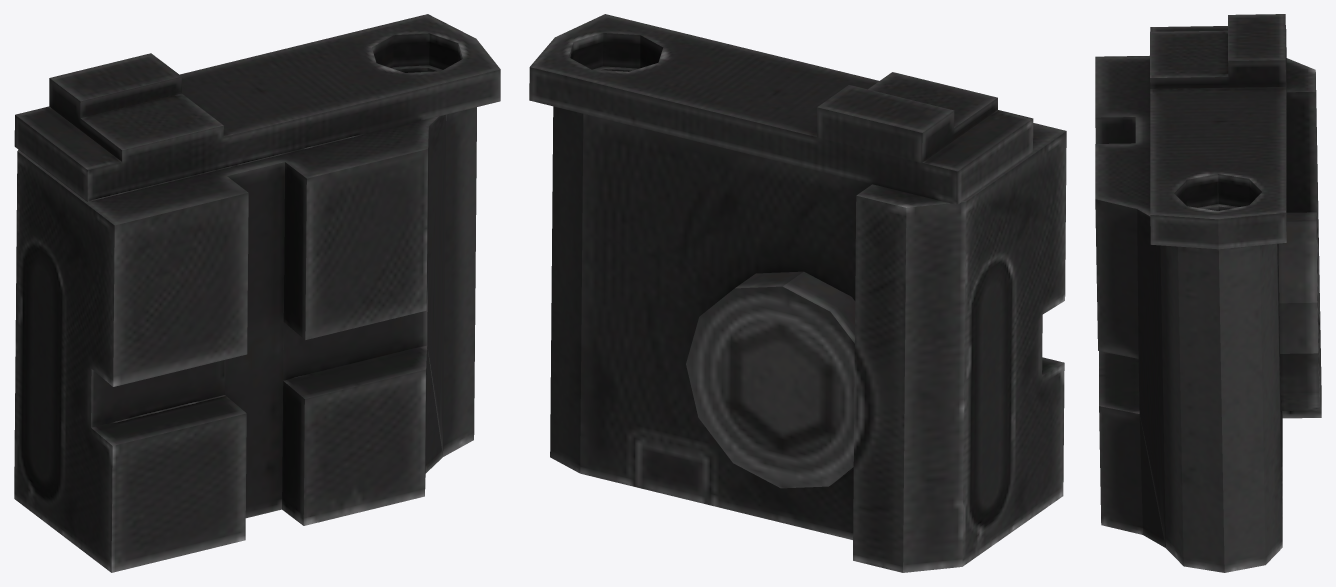
3 renders of one model, left to right at view 1: azimuth 30°, elevation 25°; view 2: azimuth 150°, elevation 25°; view 3: azimuth 270°, elevation 25°, orthographic. The views are drawn at different scales.
Visible parts, largest first — view 1: TW_59ecc28286f7746d7a68aa8c_PZ_Import; view 2: TW_59ecc28286f7746d7a68aa8c_PZ_Import; view 3: TW_59ecc28286f7746d7a68aa8c_PZ_Import.
Boxes of the visible parts, x1=… form: TW_59ecc28286f7746d7a68aa8c_PZ_Import: x1=14, y1=14, x2=500, y2=572; TW_59ecc28286f7746d7a68aa8c_PZ_Import: x1=529, y1=14, x2=1066, y2=572; TW_59ecc28286f7746d7a68aa8c_PZ_Import: x1=1095, y1=14, x2=1321, y2=572.
Size of the model in its own units: 0.0177 by 0.0087 by 0.0163.
Materials: 1 (1 with a texture image).
